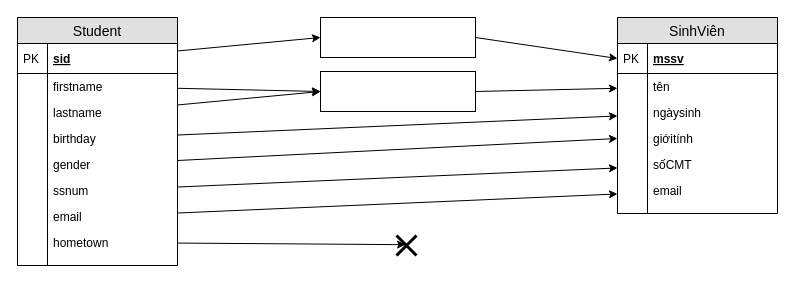
The diagram is 795 pixels wide and 283 high, and some of its shapes have lost their labels. The centre of each missing label's shape, as x and y in pixels:
Concat("BKHN_", sid): [398,37]
Concat(firstname, lastname): [398,91]
